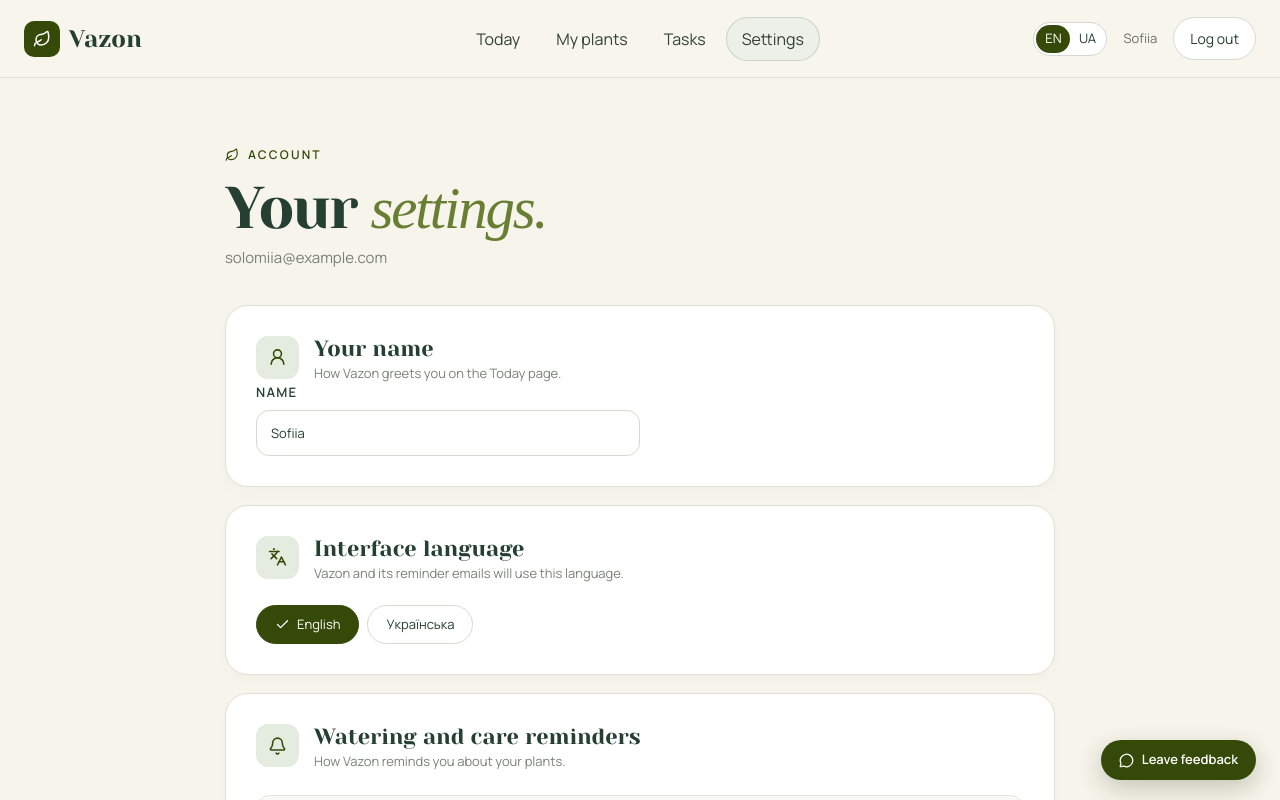
it: OAuth callback, settings, feedback widget, and species presets › greets the user by the name from settings, and saves a new name
This screenshot has width=1280, height=800.
Later steps or results of the test are not shown.
Replace the text in the field labelled "Name" with "Sonia": (448,433) [256,410,640,456]
(page scrolled)
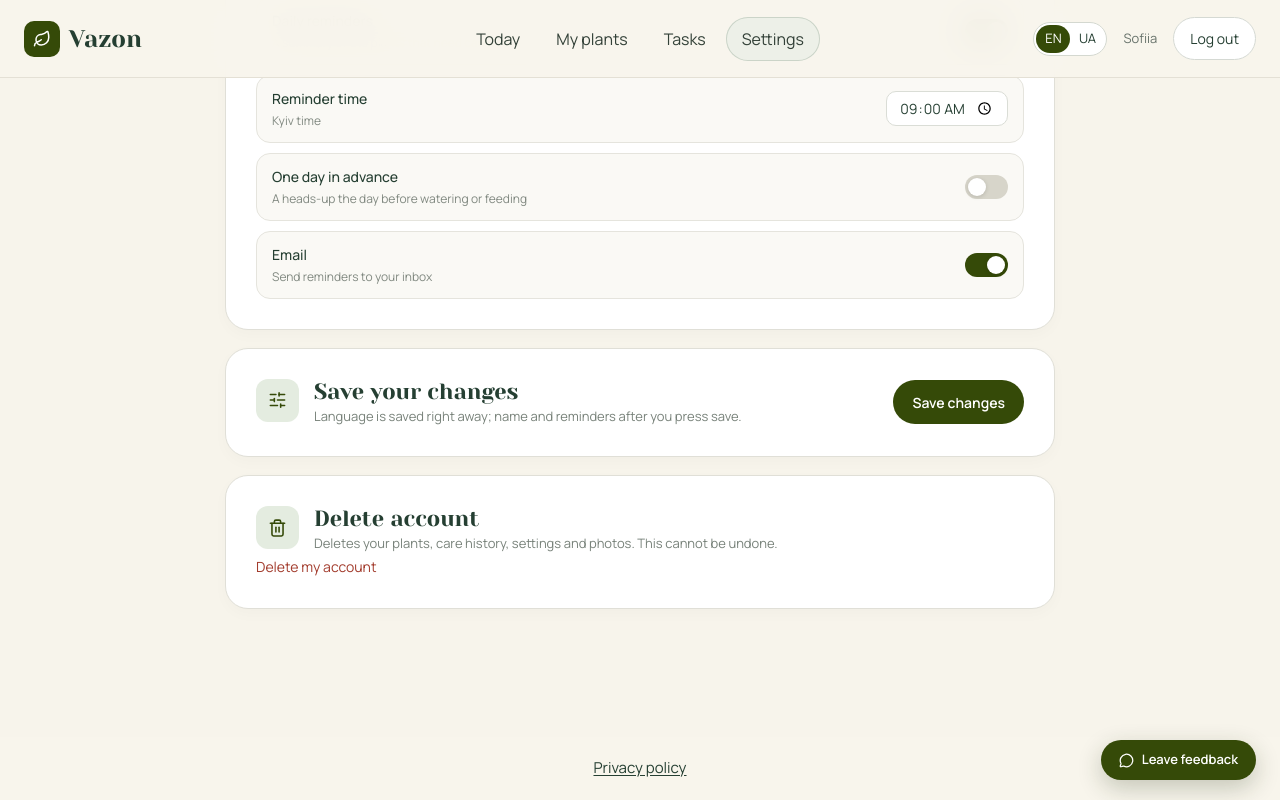
Click the button "Save changes": (959,402) [893,380,1024,424]
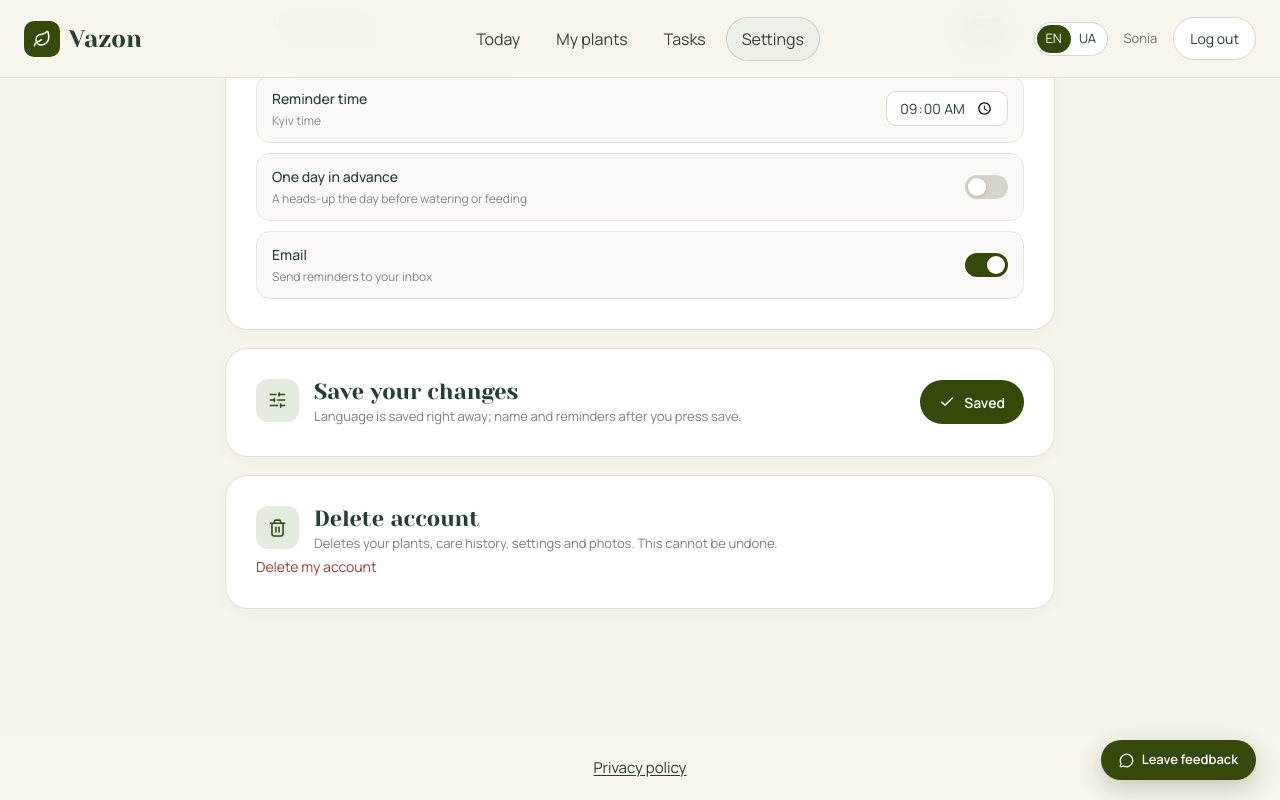
Expected: the text with class "account-email" reads "Sonia", [1124,29,1157,47]
